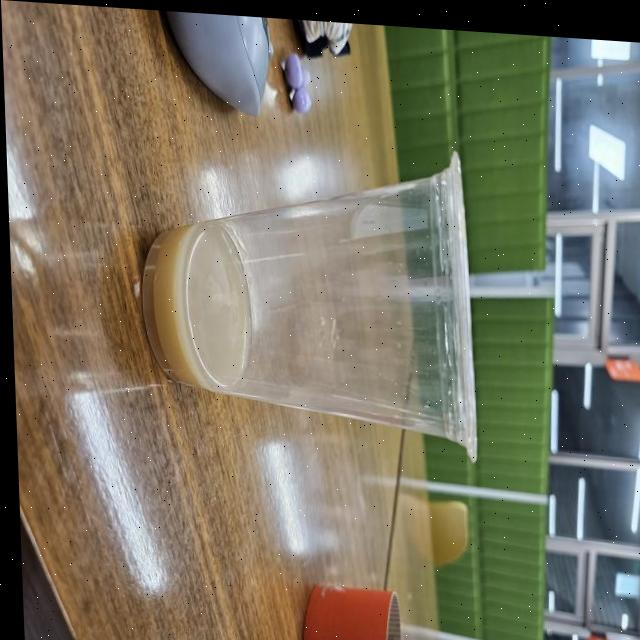cup: (131, 122, 485, 464)
